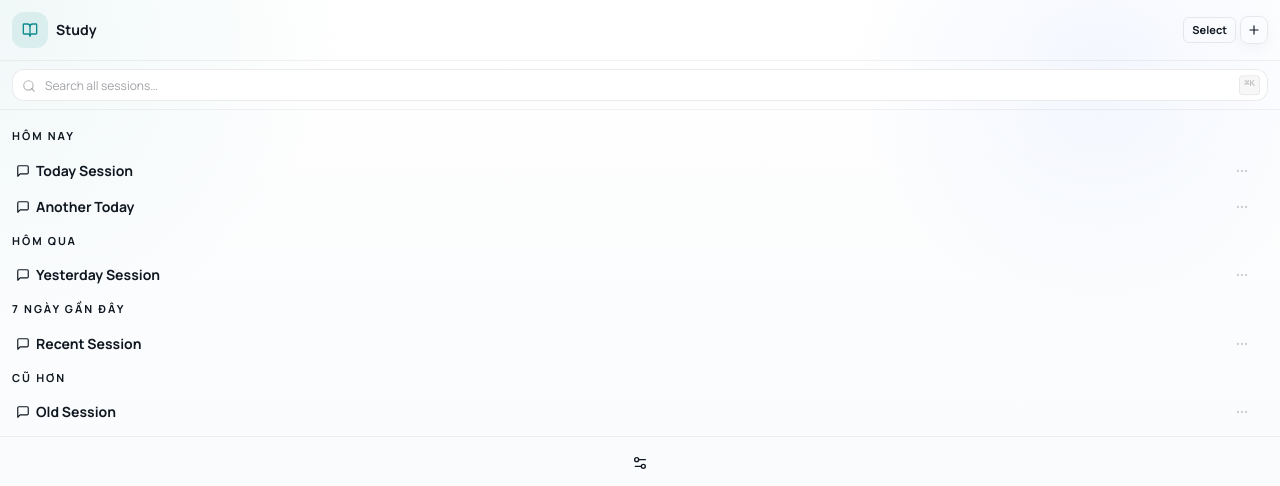
Test: SessionSidebar › clears selection mode when cancel is clicked
What coordinates should you click on to do the following:
click the button with test id "session-selection-mode-toggle"
I would click on:
 (1210, 30)
Its box is top-left (1183, 17), bottom-right (1236, 43).
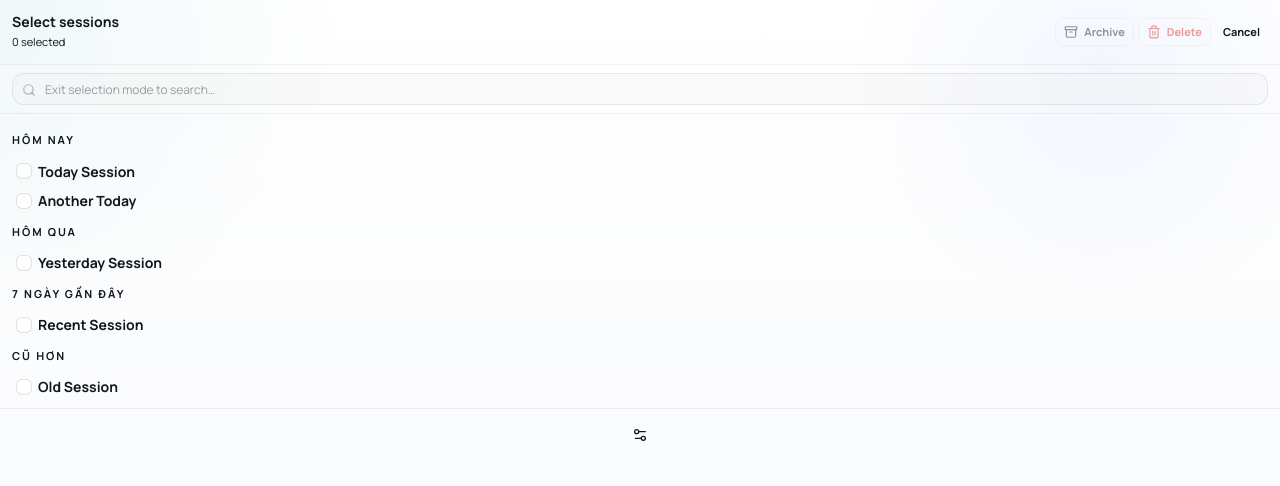
What coordinates should you click on to do the following:
click the button with test id "session-item-today-1"
I would click on:
 (76, 171)
Its box is top-left (16, 162), bottom-right (135, 180).
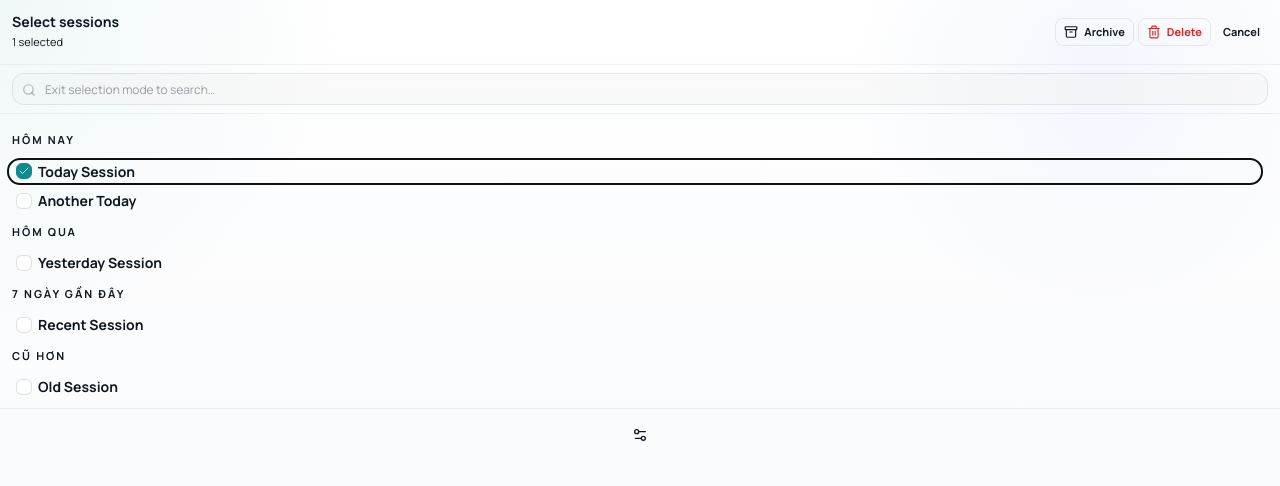
expect the text with test id "session-selection-count" reads "1 selected": met, box top-left (12, 34), bottom-right (63, 49)
What coordinates should you click on to do the following:
click the button with test id "session-selection-clear"
I would click on:
 (1241, 32)
Its box is top-left (1215, 20), bottom-right (1268, 44).
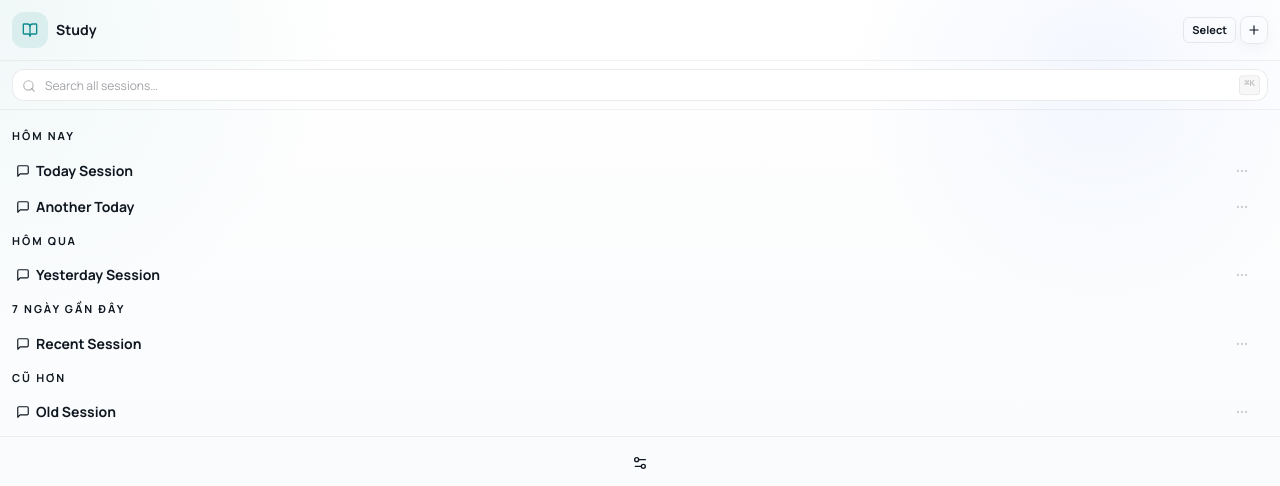
expect the text with test id "session-selection-count" is gone: met
expect the button with test id "session-menu-more-today-1" is shown: met, box top-left (1230, 158), bottom-right (1254, 182)
